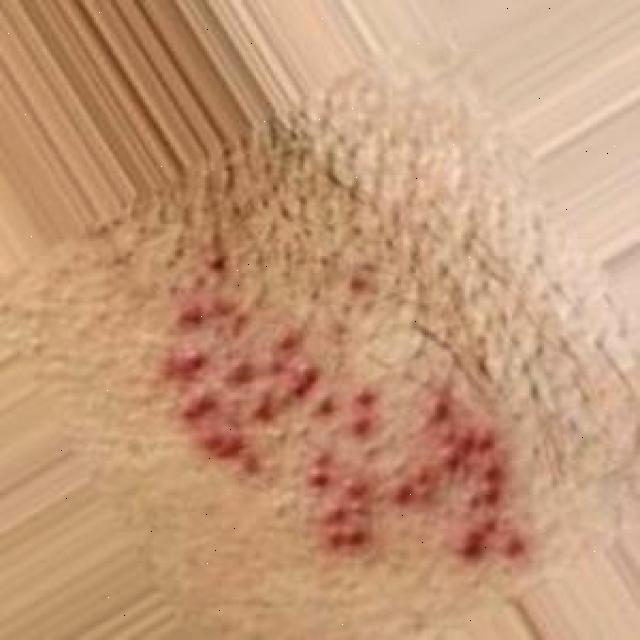Shingles: (160, 293, 529, 571)
